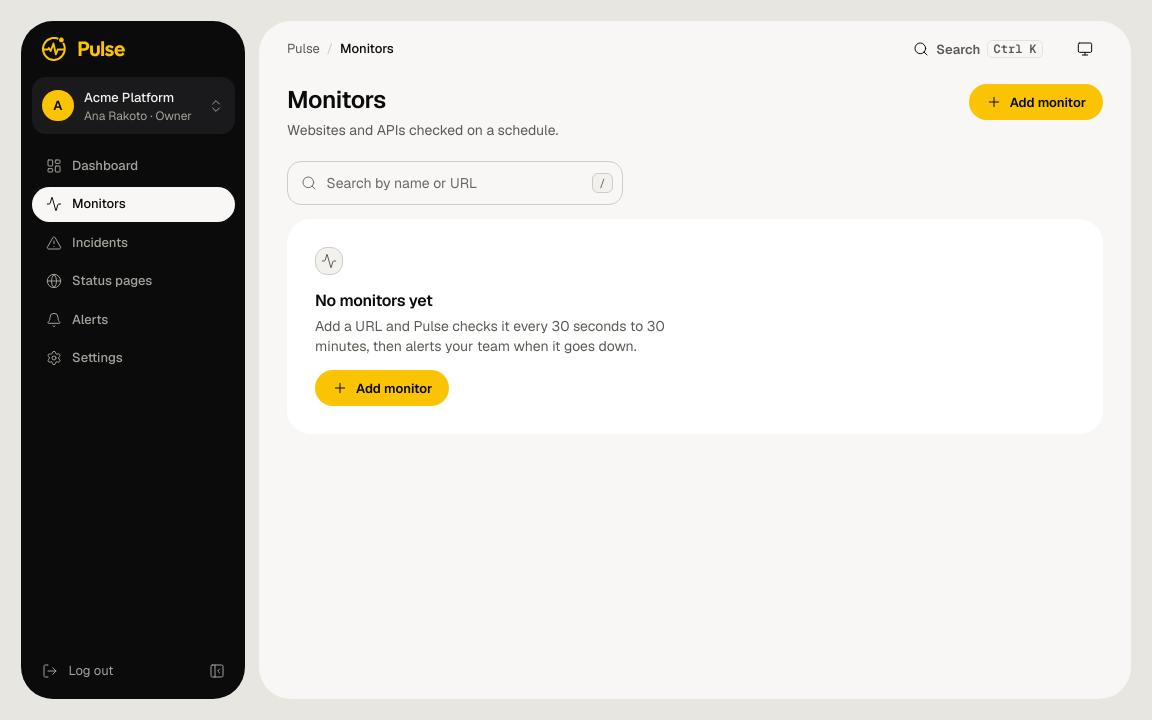
Test: Monitors list (signed in) › creates a monitor with the entered values
Click the 1st button "Add monitor" at (1036, 102), box [969,84,1103,120]
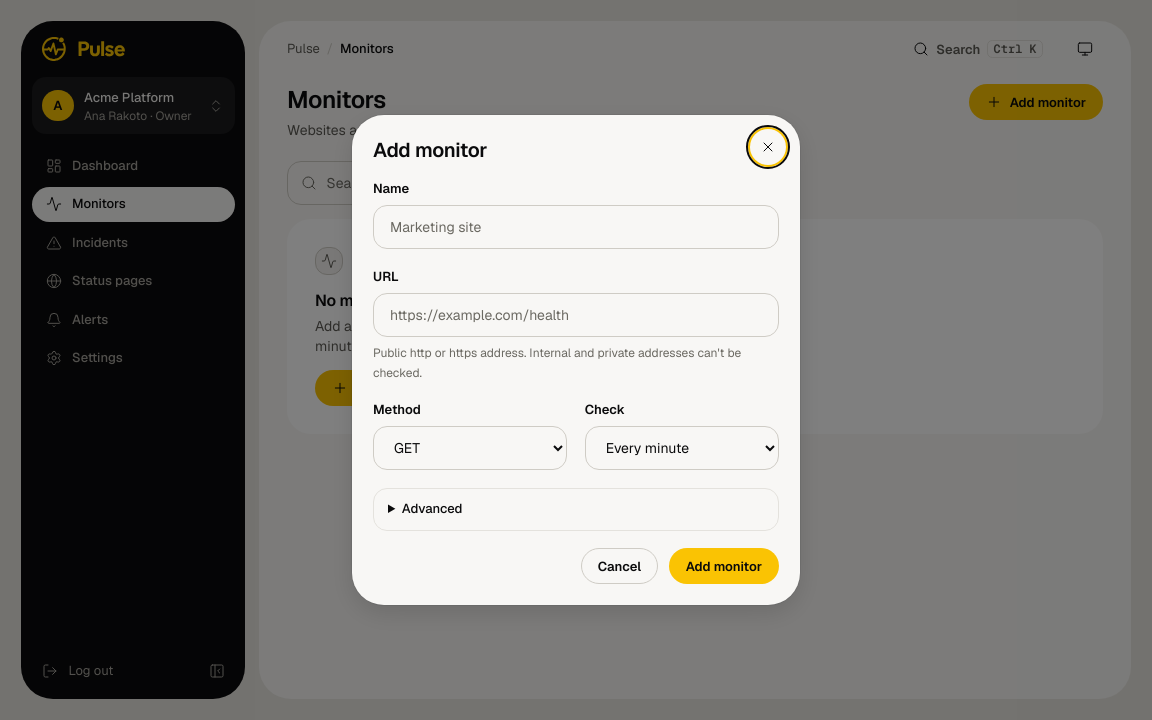
Type "Marketing" into the field labelled "Name" at (576, 227), box [373,205,779,249]
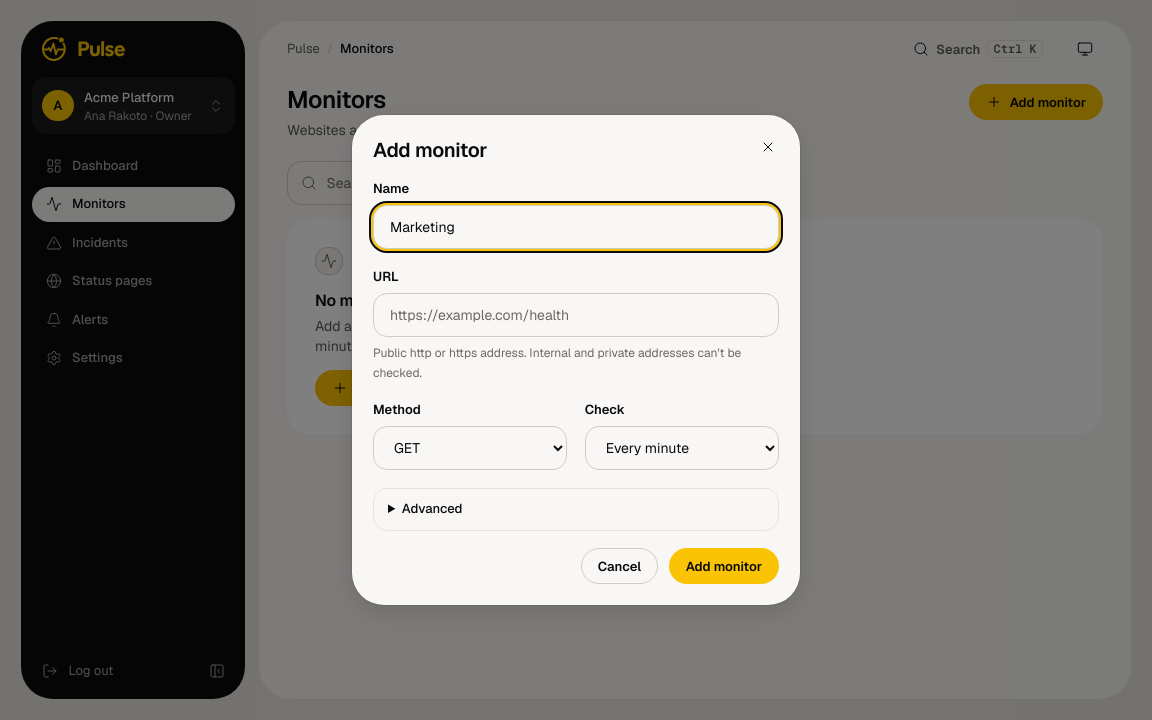
Type "https://example.com" into the field labelled "URL" at (576, 314), box [373,292,779,336]
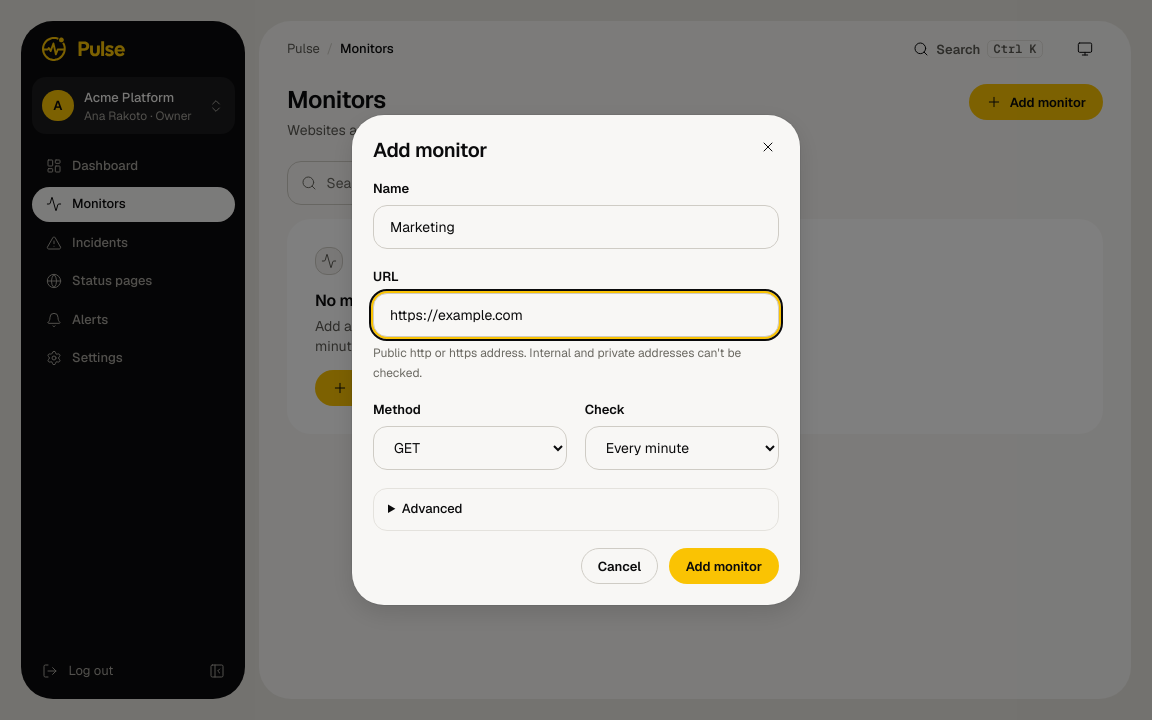
Select "Every 5 minutes" in the dropdown labelled "Check" at (682, 448), box [585,426,779,470]
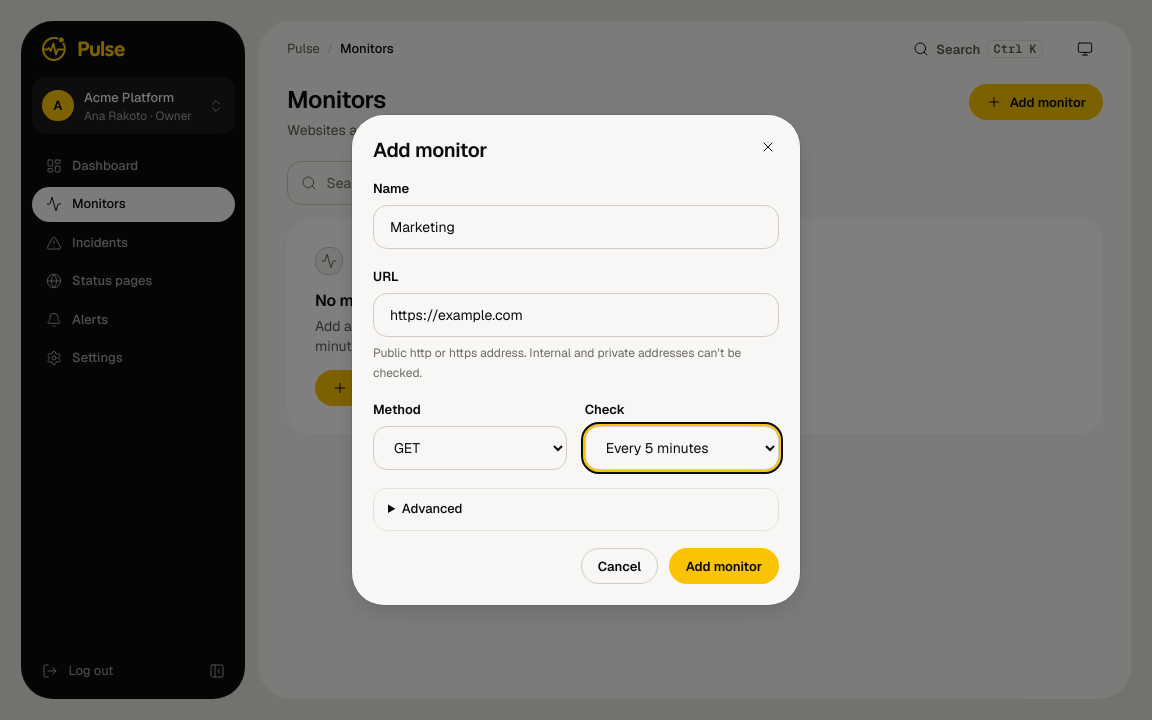
Click the button "Add monitor" at (724, 566), box [669,548,779,584]
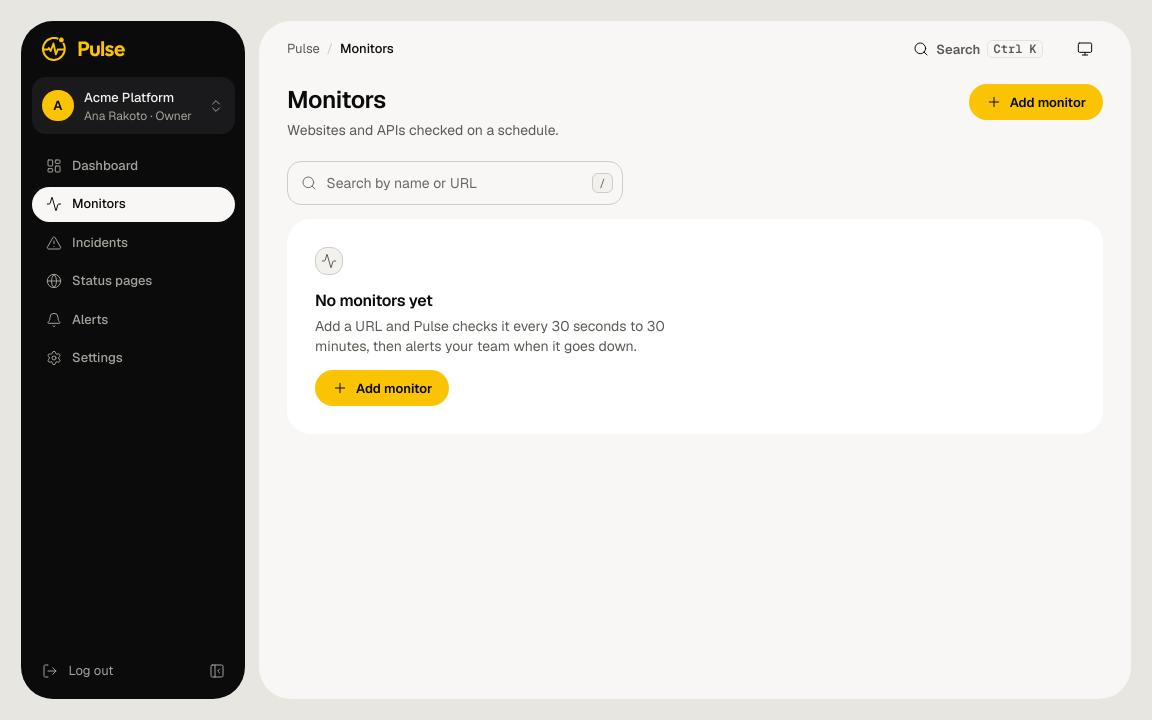
Result: the dialog is gone
